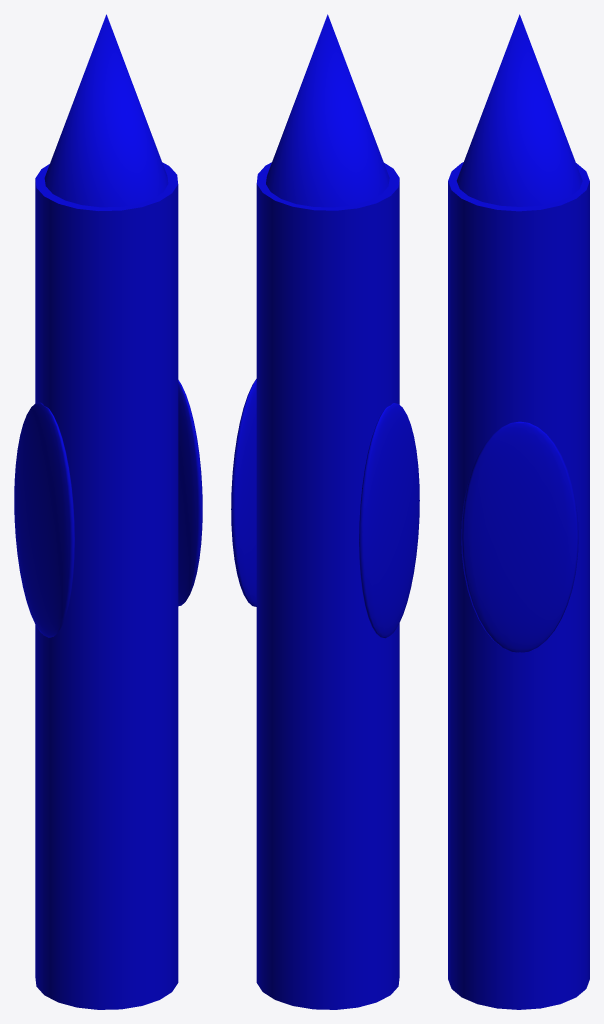
The model's file is bluecrayon.fbx.
The picture shows the model from 3 angles, left to right: view 1: azimuth 30°, elevation 25°; view 2: azimuth 150°, elevation 25°; view 3: azimuth 270°, elevation 25°; orthographic projection.
Visible parts, largest first — view 1: pasted__pSphere1; view 2: pasted__pSphere1; view 3: pasted__pSphere1.
Part boxes in pixels (x1,y1,x2,y2): pasted__pSphere1: (14,14,202,1009); pasted__pSphere1: (231,14,419,1009); pasted__pSphere1: (448,14,589,1009).
Size of the model in its own units: 0.1 by 0.6431 by 0.0856.
